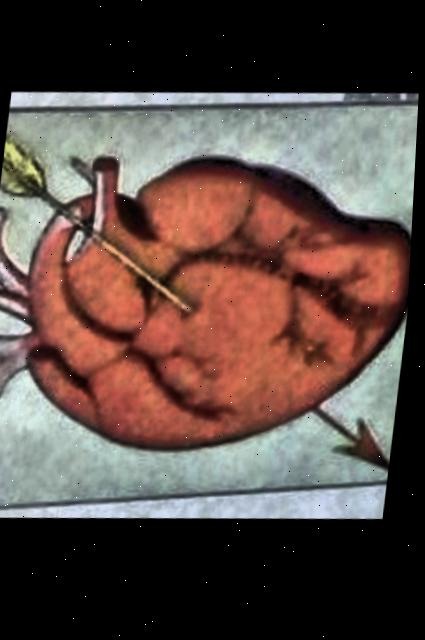El Corazon: (0, 105, 420, 506)
